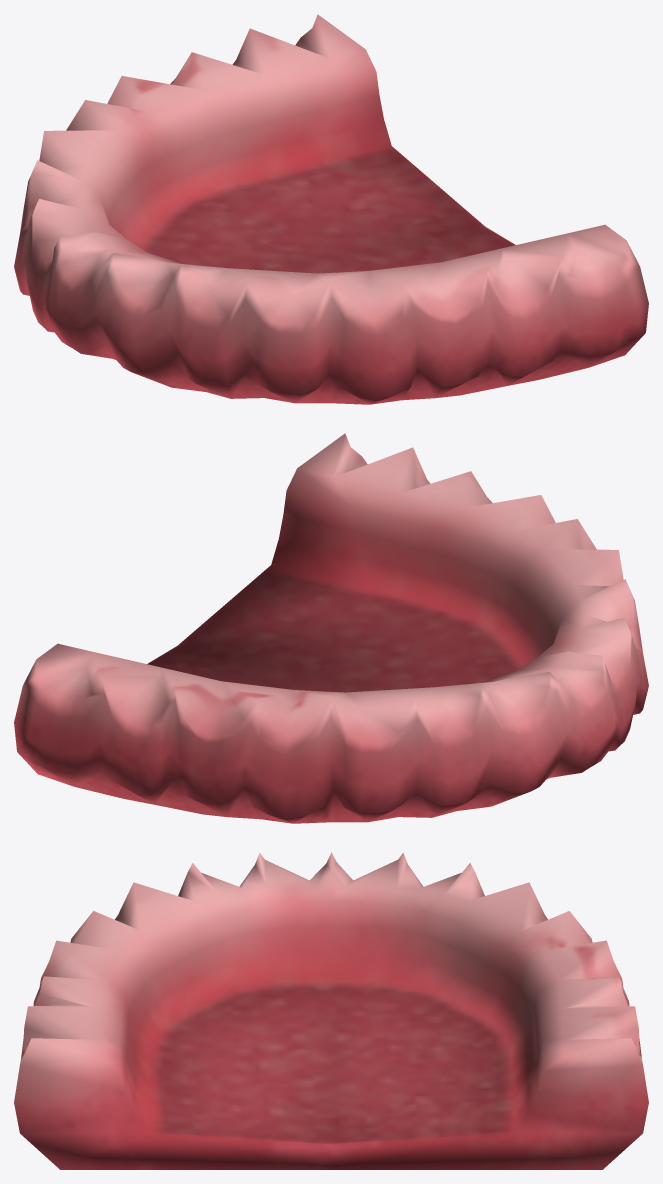
File: LowerGums.fbx
3 renders of one model, top to bottom at view 1: azimuth 30°, elevation 25°; view 2: azimuth 150°, elevation 25°; view 3: azimuth 270°, elevation 25°, orthographic. The views are drawn at different scales.
Visible parts, largest first — view 1: polySurface35; view 2: polySurface35; view 3: polySurface35.
Boxes of the visible parts, x1,y1,x2,y2 form: polySurface35: (14, 14, 648, 404); polySurface35: (14, 433, 648, 823); polySurface35: (14, 852, 648, 1169).
Size of the model in its own units: 635 by 188 by 817.
